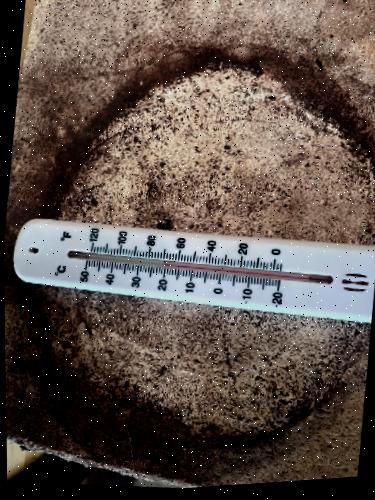thermo: (14, 204, 375, 325)
